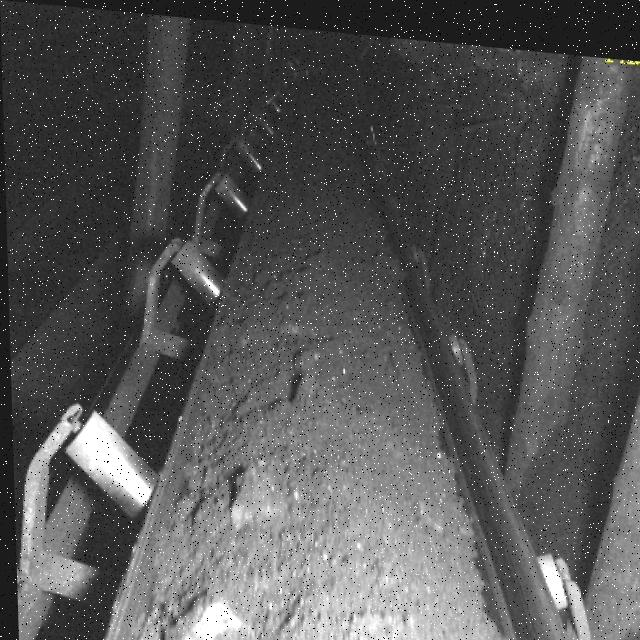large_sized_coal: (152, 580, 260, 640), (197, 456, 288, 527)
